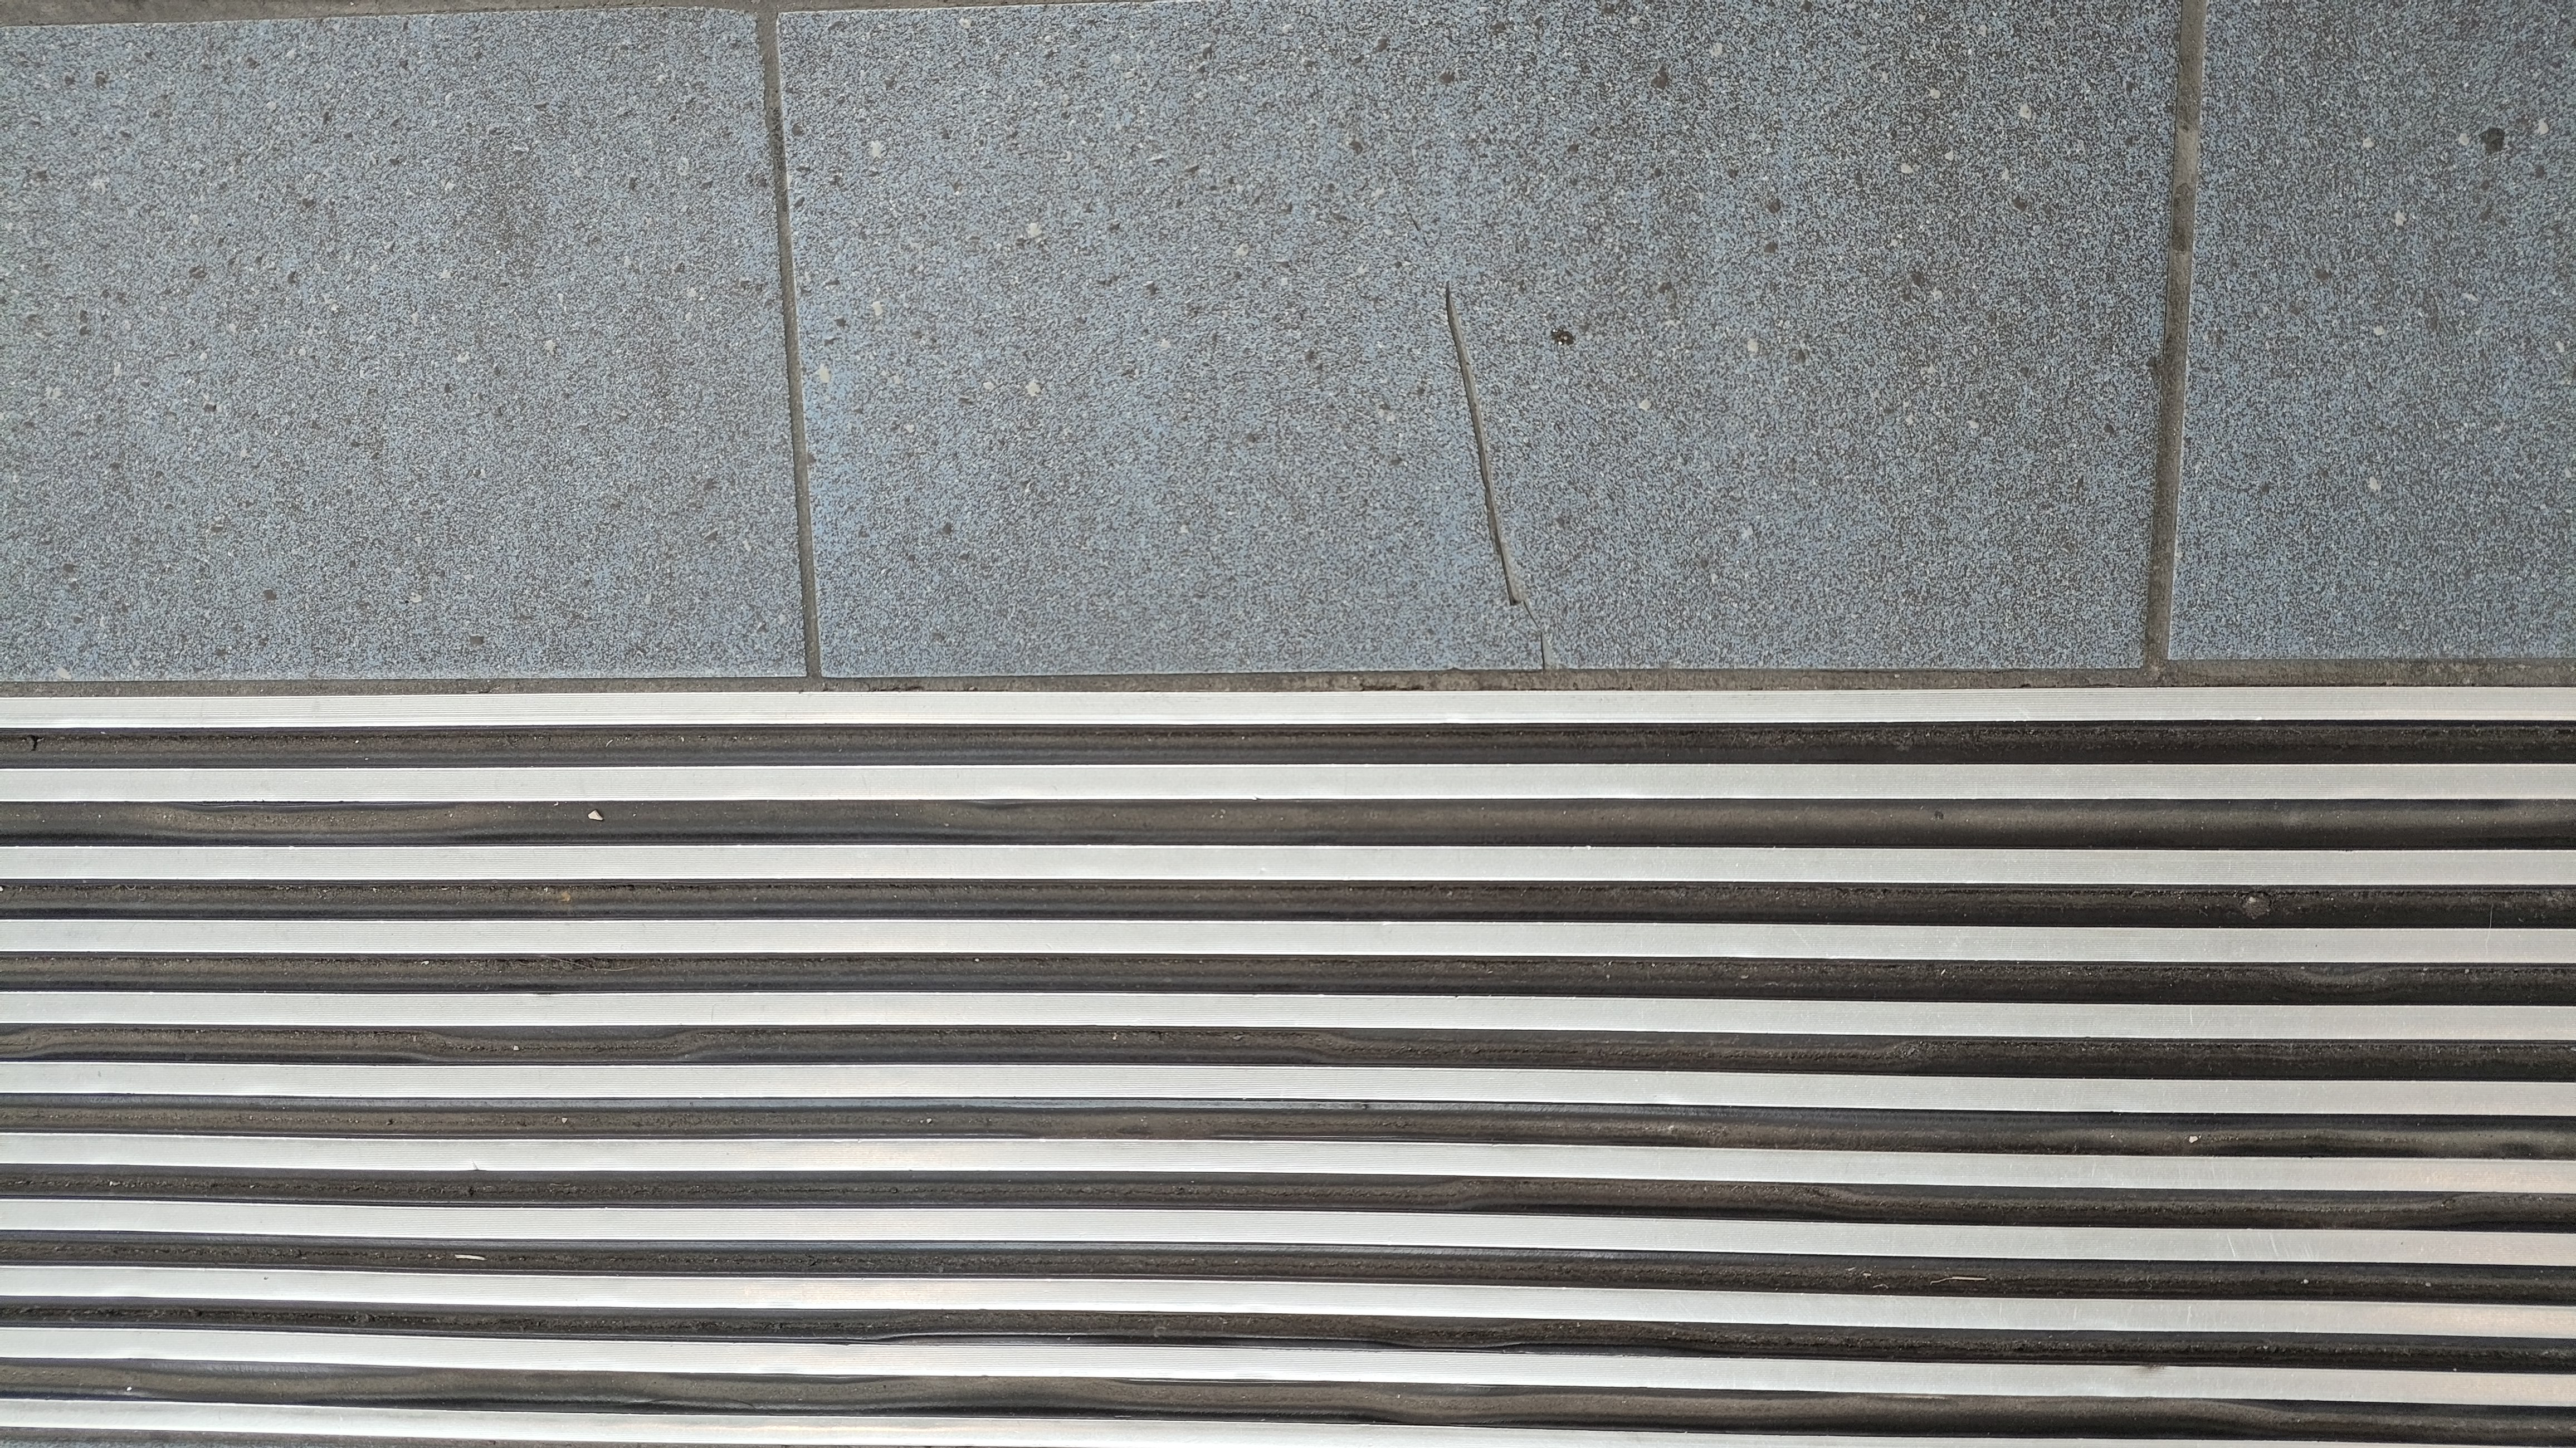Defect: (1433, 278, 1559, 668)
